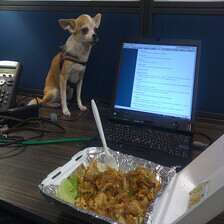laptop: (79, 36, 209, 172)
